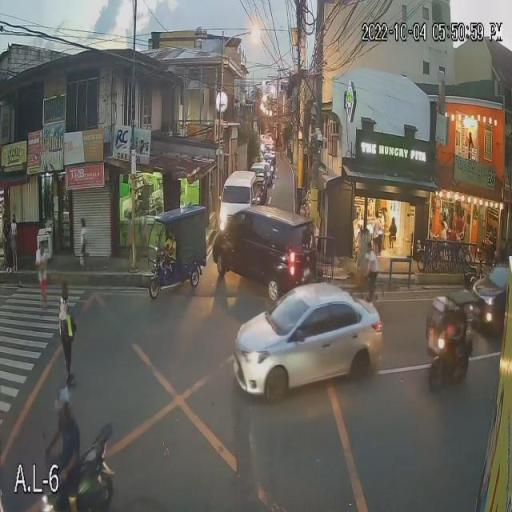helmet: (47, 386, 75, 423)
motorcycle: (23, 416, 128, 512)
rider: (50, 419, 91, 512)
